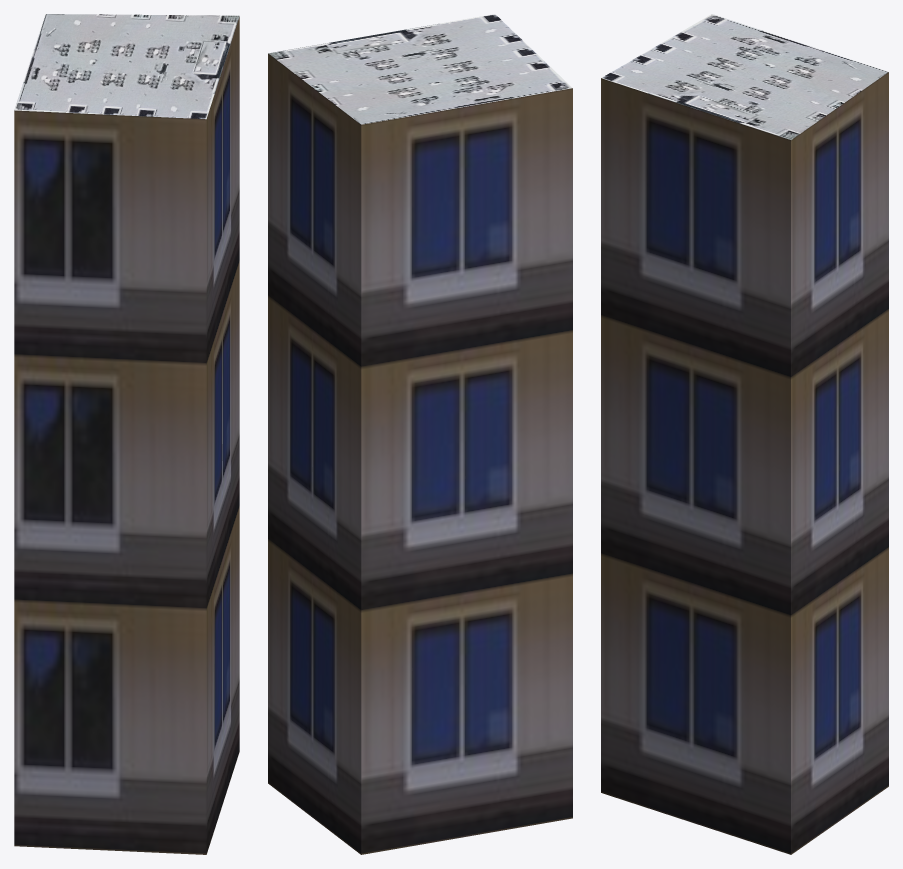
The model's file is ResTex__5295.fbx.
3 views of the same model, side by side, from view 1: azimuth 30°, elevation 25°; view 2: azimuth 150°, elevation 25°; view 3: azimuth 270°, elevation 25° (orthographic). The views are drawn at different scales.
Visible parts, largest first — view 1: CityEngineMaterial_5_m, CityEngineMaterial_4_m; view 2: CityEngineMaterial_5_m, CityEngineMaterial_4_m; view 3: CityEngineMaterial_5_m, CityEngineMaterial_4_m.
Part boxes in pixels (x1=…): CityEngineMaterial_5_m: x1=14, y1=16, x2=239, y2=854; CityEngineMaterial_4_m: x1=14, y1=14, x2=239, y2=119; CityEngineMaterial_5_m: x1=268, y1=53, x2=572, y2=854; CityEngineMaterial_4_m: x1=268, y1=14, x2=572, y2=124; CityEngineMaterial_5_m: x1=601, y1=72, x2=888, y2=854; CityEngineMaterial_4_m: x1=601, y1=14, x2=888, y2=139.
Size of the model in its own units: 3.41 by 9 by 3.28.
Materials: 2 (2 with a texture image).
